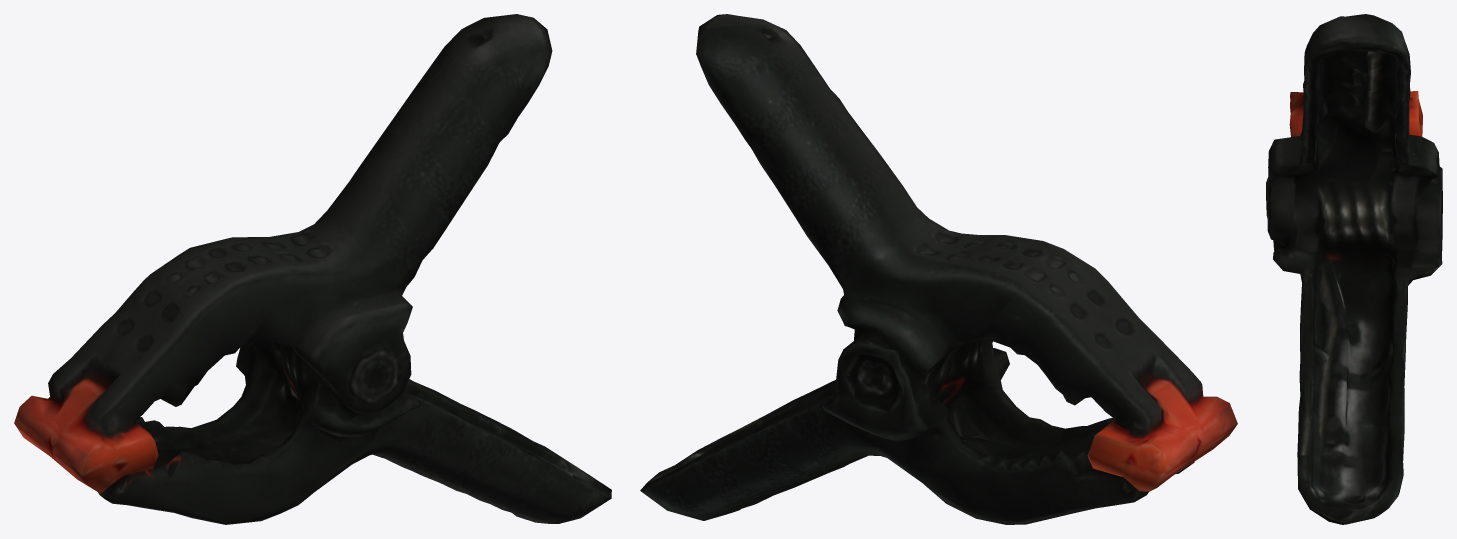
The picture shows the model from 3 angles, left to right: view 1: azimuth 30°, elevation 25°; view 2: azimuth 150°, elevation 25°; view 3: azimuth 270°, elevation 25°; orthographic projection. The views are drawn at different scales.
Visible parts, largest first — view 1: textured.054; view 2: textured.054; view 3: textured.054.
Boxes of the visible parts, <box> form: textured.054: <box>14,14,611,524</box>; textured.054: <box>640,14,1237,524</box>; textured.054: <box>1266,14,1442,524</box>.
Size of the model in its own units: 0.0887 by 0.0768 by 0.026.
Materials: 1 (1 with a texture image).
